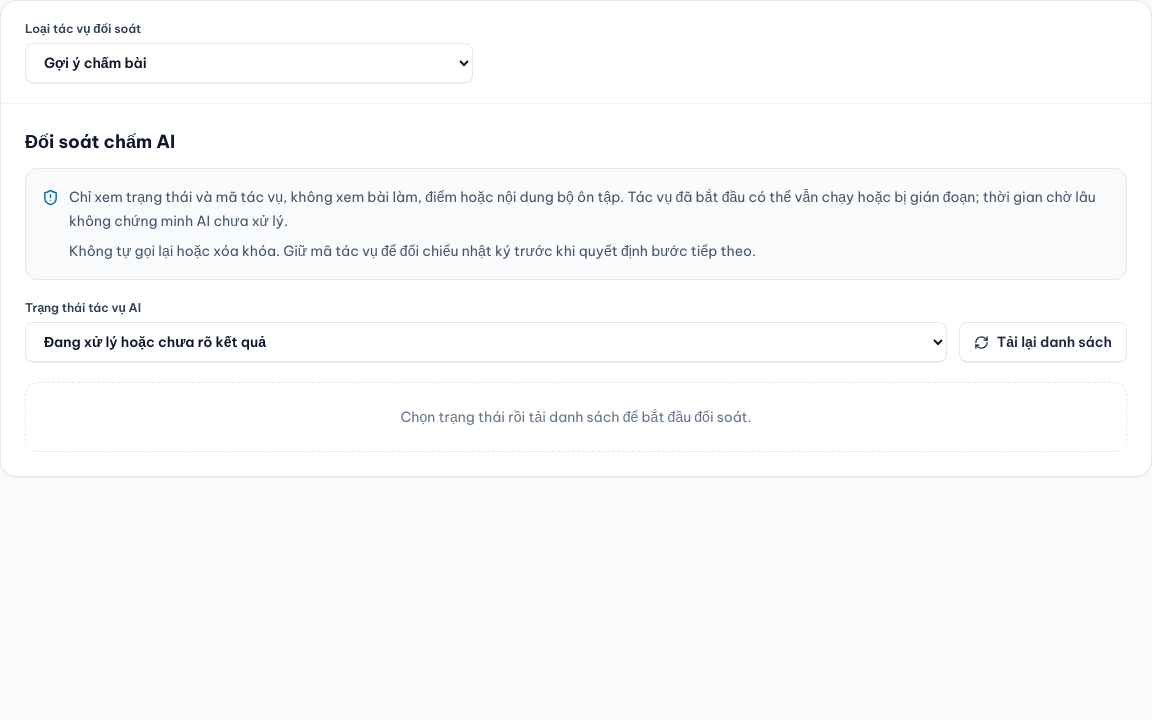
Test: admin AI grading queue › reads and paginates document-answers without exposing content or exam controls
Later steps or results of the test are not shown.
Select "Hỏi đáp tài liệu" in the dropdown labelled "Loại tác vụ đối soát" at (249, 63), box x1=25 y1=43 x2=473 y2=83
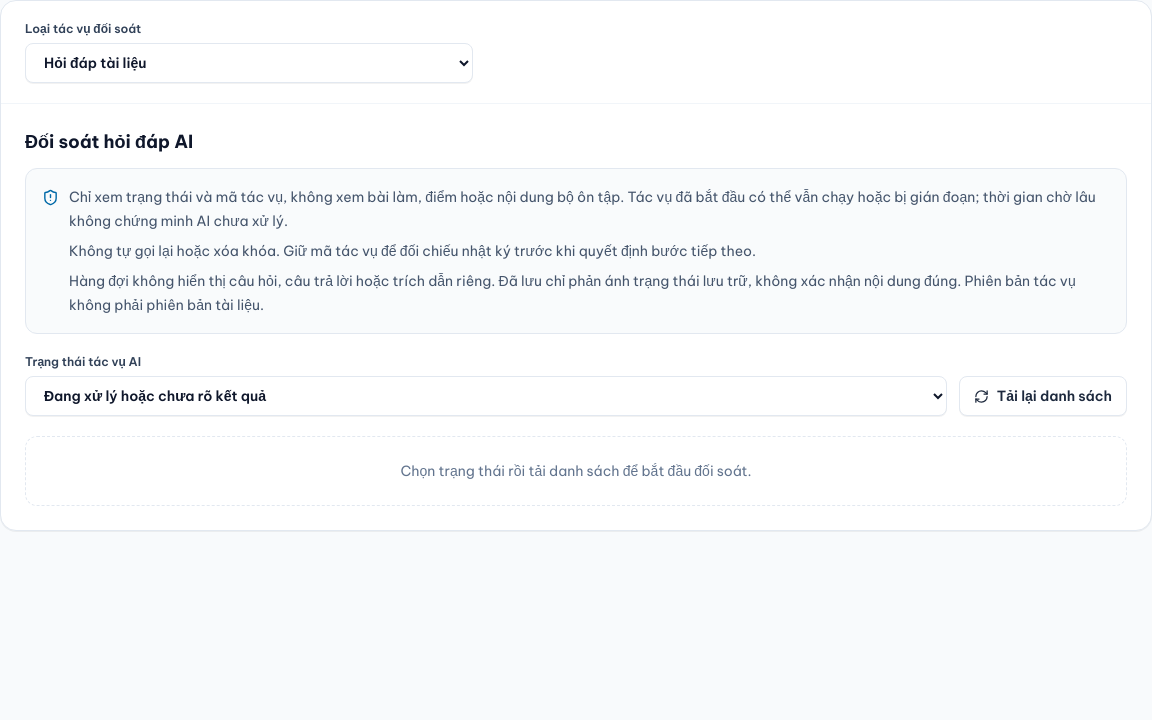
Select "Đã lưu câu trả lời" in the dropdown labelled "Trạng thái tác vụ AI" at (486, 396), box x1=25 y1=376 x2=947 y2=416
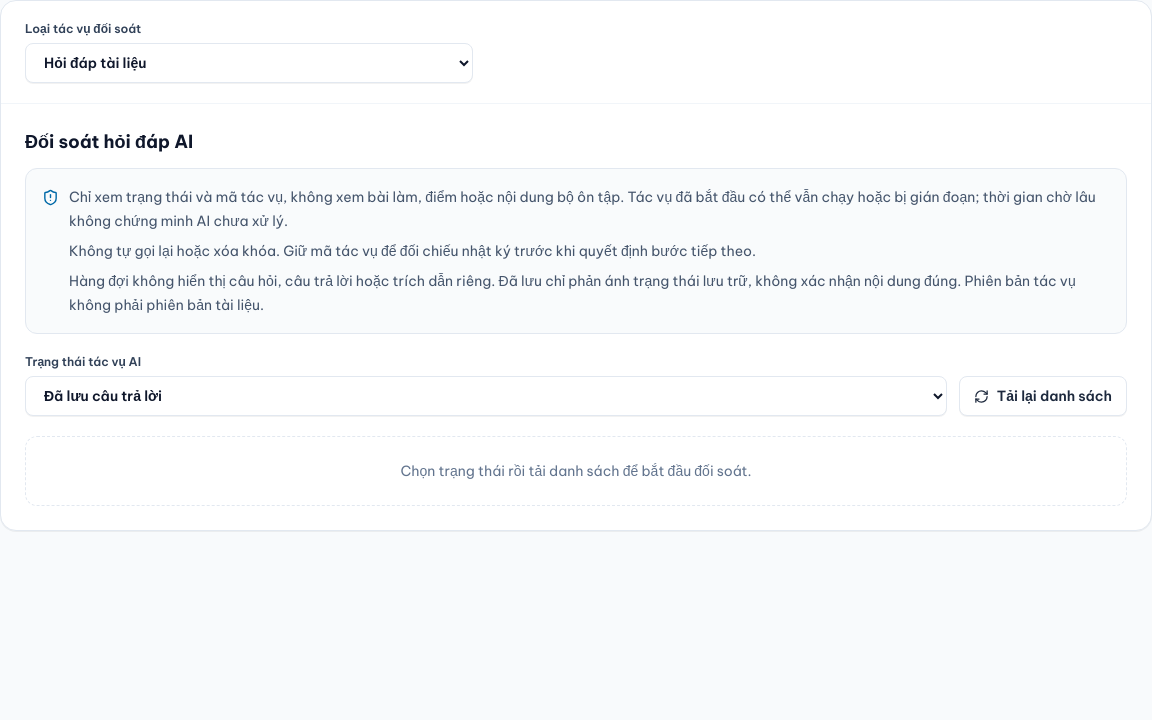
Click the button "Tải lại danh sách" at (1043, 396), box x1=959 y1=376 x2=1127 y2=416
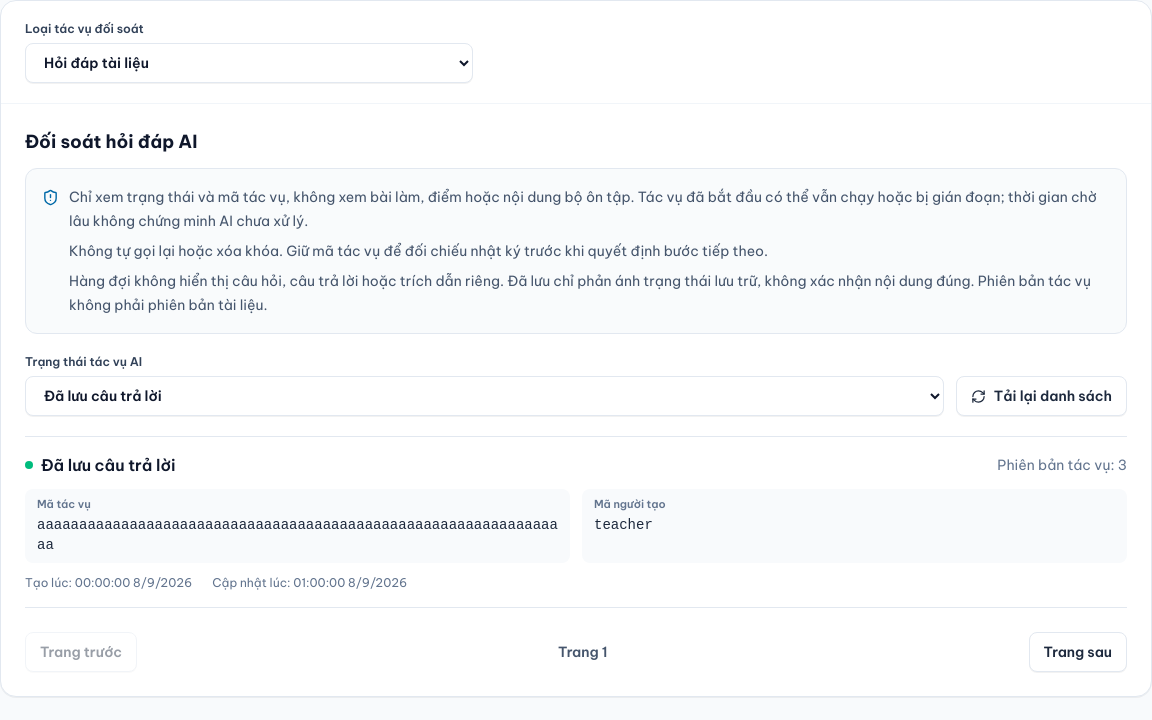
Result: the text "Đã lưu câu trả lời" is shown at x1=41 y1=453 x2=176 y2=477
Result: the text "Phiên bản tác vụ" is shown at x1=997 y1=456 x2=1111 y2=474
Click the button "Trang sau" at (1078, 652), box x1=1029 y1=632 x2=1127 y2=672
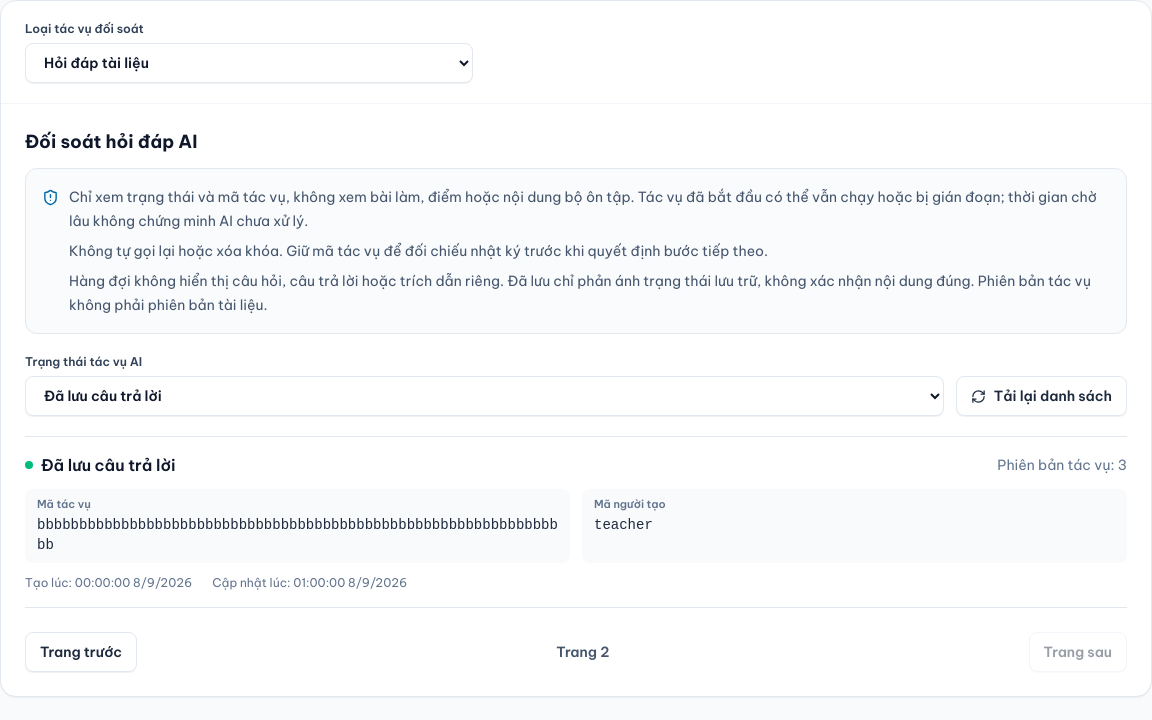
Result: the button "Trang trước" is enabled at x1=25 y1=632 x2=137 y2=672
